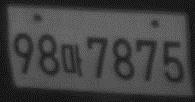5: (161, 39, 184, 83)
7: (135, 38, 158, 84), (85, 35, 108, 79)
8: (37, 33, 61, 76), (111, 38, 135, 81)
9: (12, 32, 34, 76)
마: (60, 43, 84, 77)
